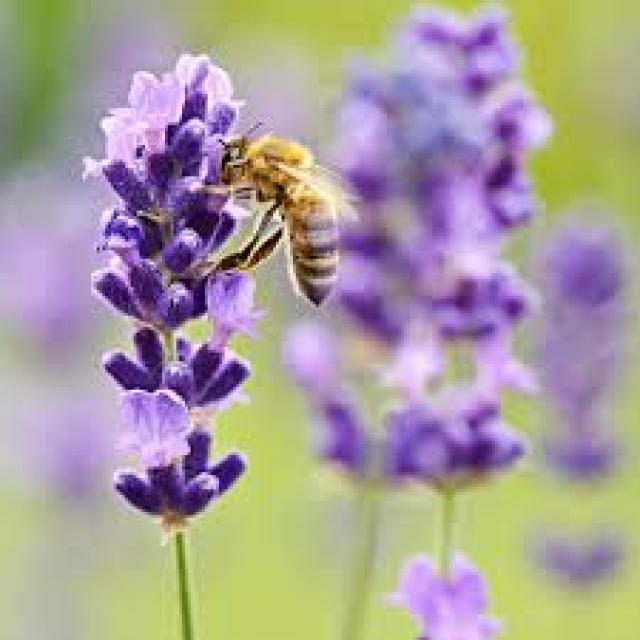Bees: (190, 122, 364, 308)
